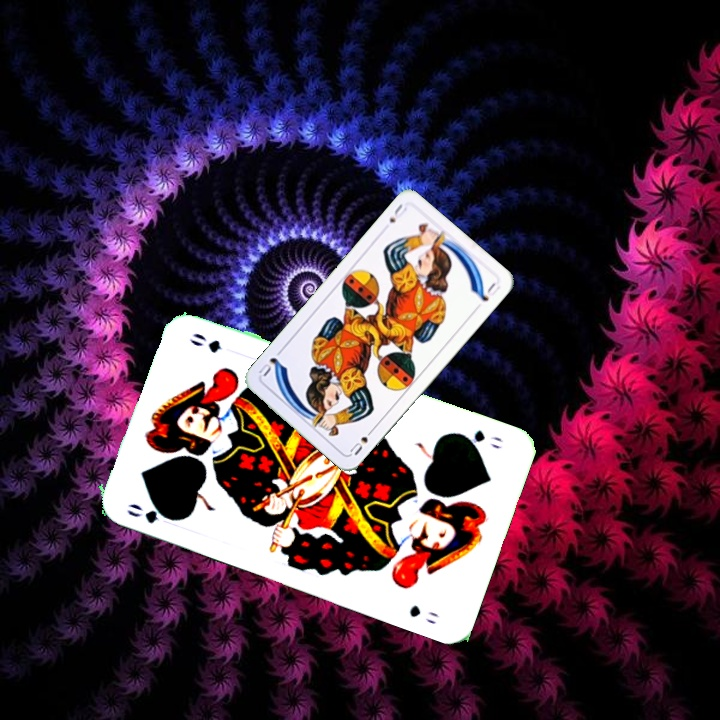GO: (123, 499, 176, 527), (452, 425, 505, 452)
SU: (346, 423, 377, 458), (385, 199, 408, 226)
